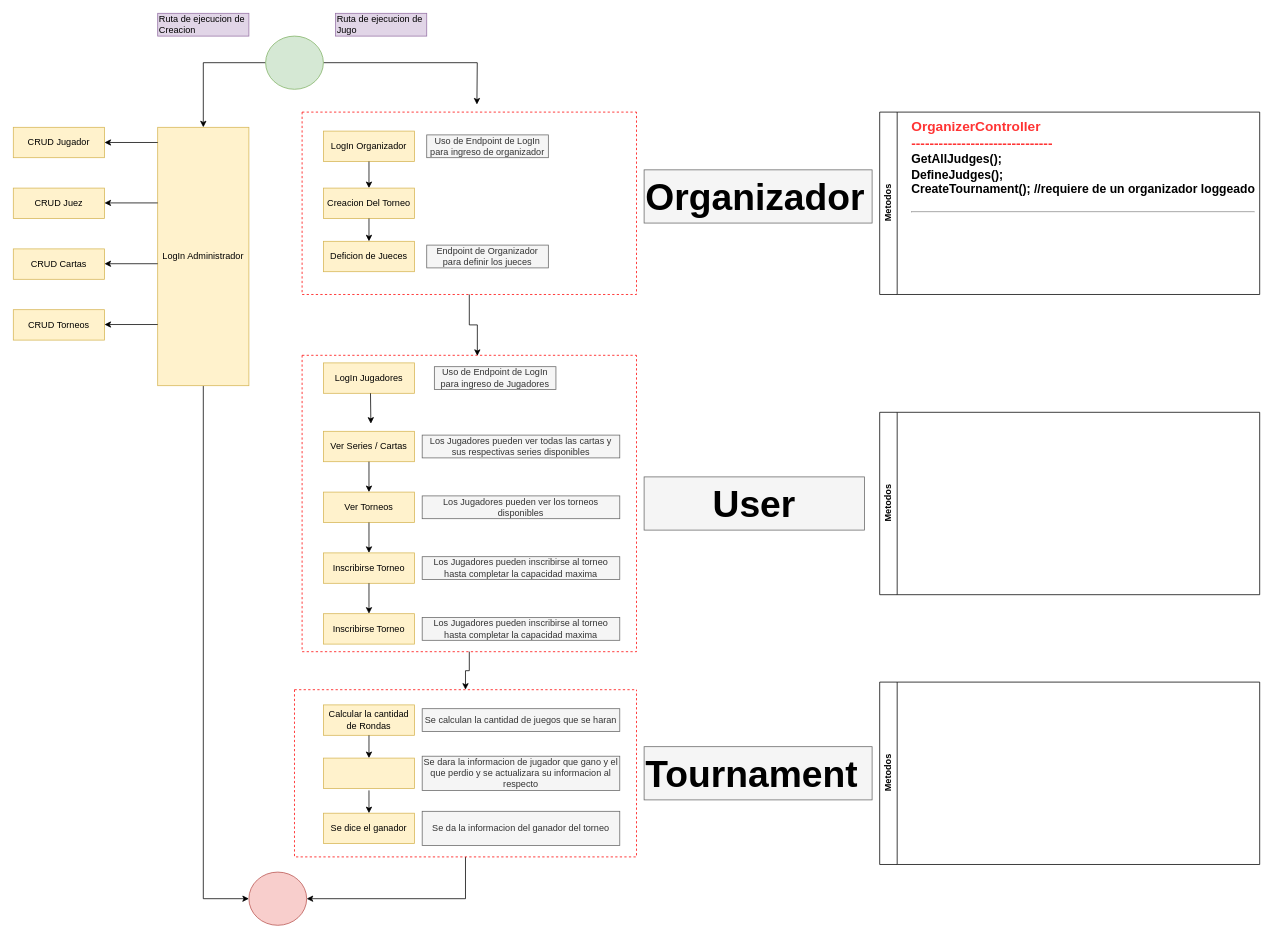
The diagram is 1273 pixels wide and 939 high, and some of its shapes have lost their labels. The centre of each missing label's shape, as x and y in pixels:
"FIN" belongs at point 277,898.
"INICIO" belongs at point 294,62.
"Se calgula el ganador de cada ronda" belongs at point 369,772.
